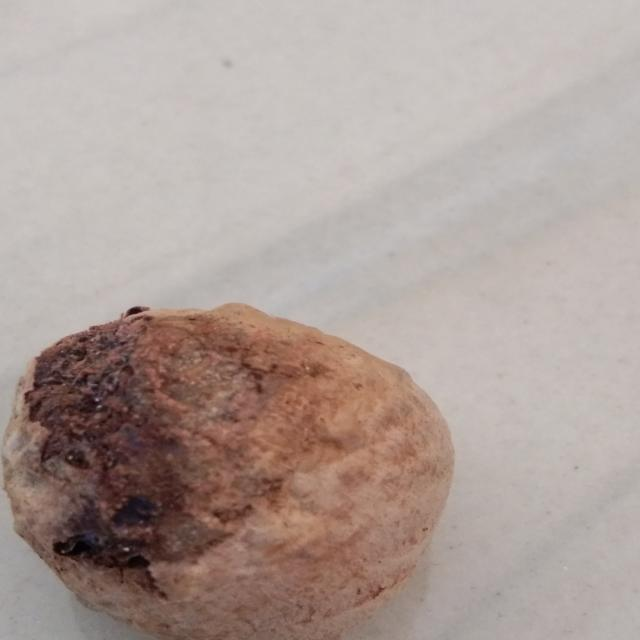karigot: (1, 268, 479, 640)
